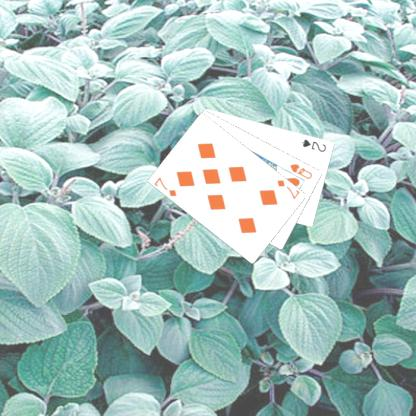2S: (300, 136, 328, 153)
7D: (152, 174, 178, 198), (274, 177, 300, 200)
QH: (288, 161, 314, 181)
